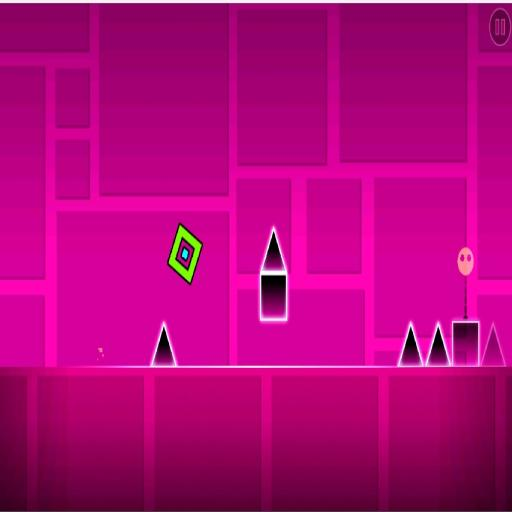block: (258, 274, 289, 328), (452, 321, 479, 366)
player: (167, 224, 202, 283)
spike: (426, 322, 451, 366), (399, 323, 423, 366), (262, 228, 285, 272), (152, 324, 175, 366), (482, 323, 505, 365)
